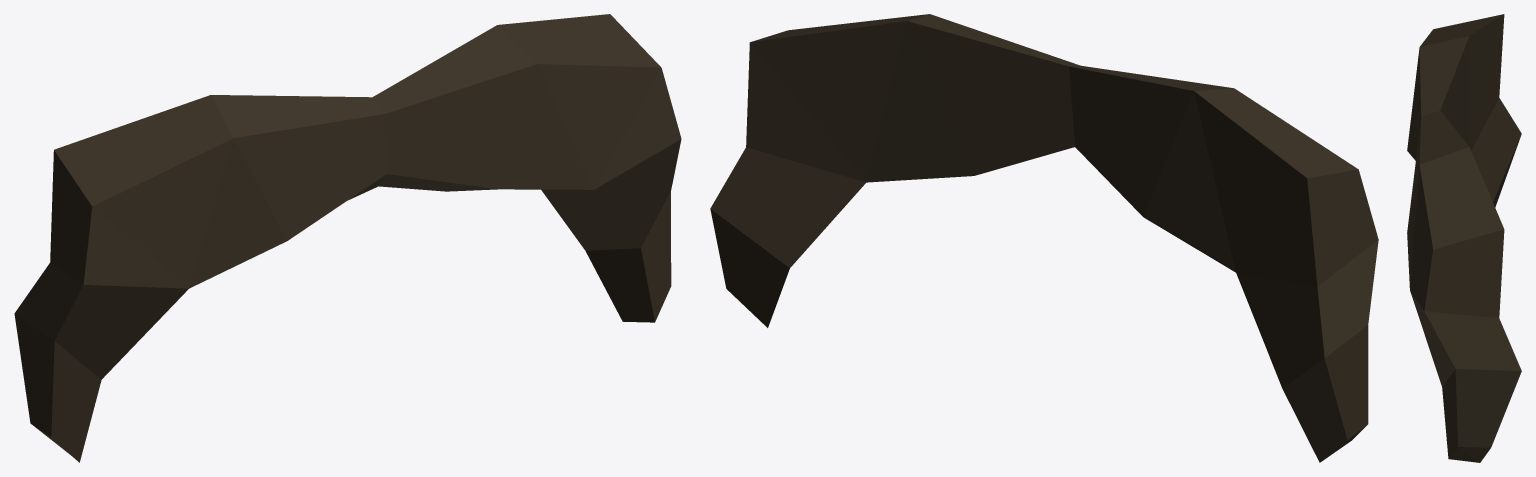
File: SM_Chr_Attach_Beard_05_Mustache.fbx
The picture shows the model from 3 angles, left to right: view 1: azimuth 30°, elevation 25°; view 2: azimuth 150°, elevation 25°; view 3: azimuth 270°, elevation 25°; orthographic projection. The views are drawn at different scales.
Parts seen in each view (by area): view 1: SM_Chr_Attach_Beard_05_Mustache; view 2: SM_Chr_Attach_Beard_05_Mustache; view 3: SM_Chr_Attach_Beard_05_Mustache.
Part boxes in pixels (x1,y1,x2,y2): SM_Chr_Attach_Beard_05_Mustache: (14,14,681,462); SM_Chr_Attach_Beard_05_Mustache: (710,14,1378,462); SM_Chr_Attach_Beard_05_Mustache: (1407,14,1521,462).
Size of the model in its own units: 15.95 by 8.21 by 3.22.
